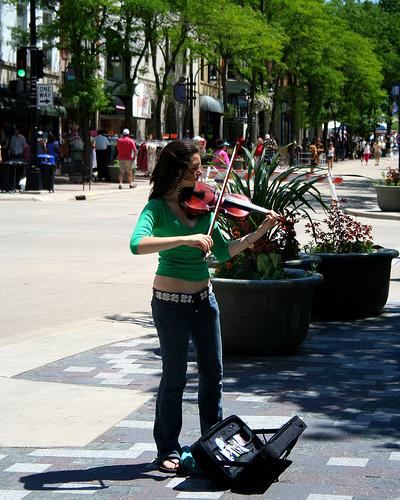person: (131, 143, 282, 473)
